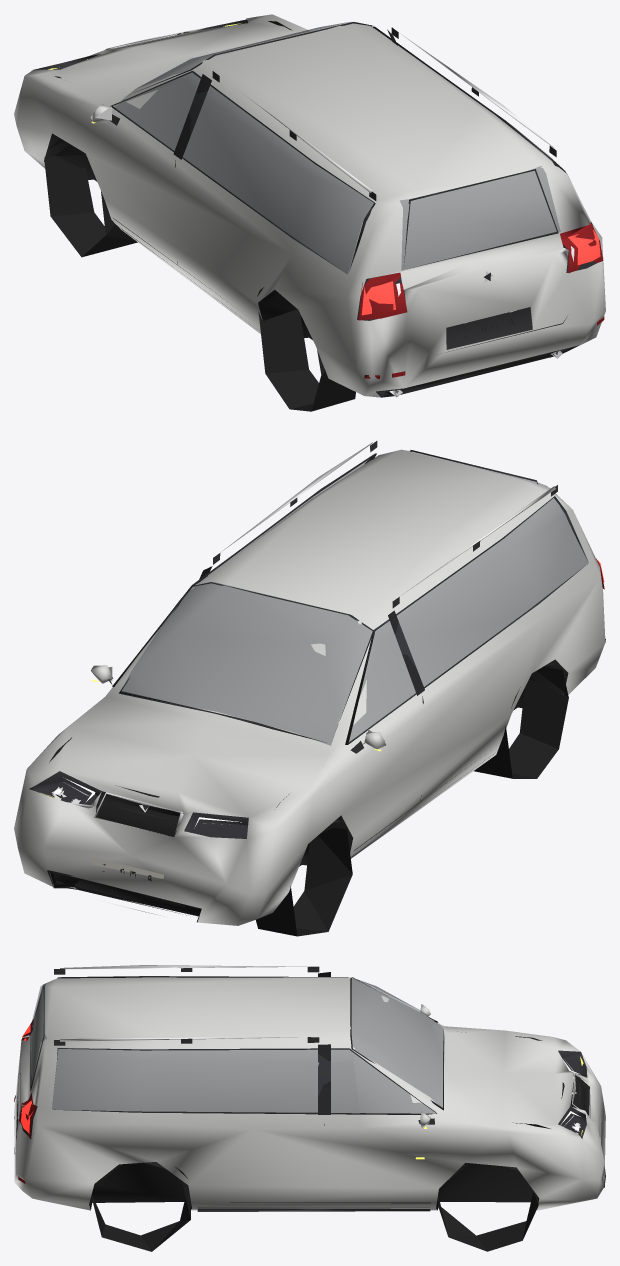
Rendered from civ_suv_lod1.glb.
3 renders of one model, top to bottom at view 1: azimuth 30°, elevation 25°; view 2: azimuth 150°, elevation 25°; view 3: azimuth 270°, elevation 25°, orthographic. The views are drawn at different scales.
Parts seen in each view (by area): view 1: civ_suv.001; view 2: civ_suv.001; view 3: civ_suv.001.
Part boxes in pixels (x1,y1,x2,y2): civ_suv.001: (14,14,605,411); civ_suv.001: (14,441,605,936); civ_suv.001: (14,965,605,1251).
Size of the model in its own units: 2.11 by 1.73 by 4.59.
